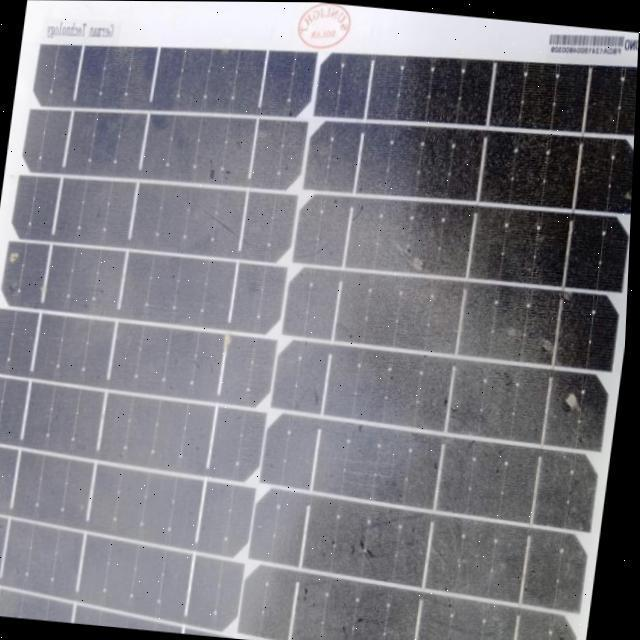Anomaly Solar Panel: (0, 0, 640, 640)
Surface Contaminant: (0, 38, 637, 640)
